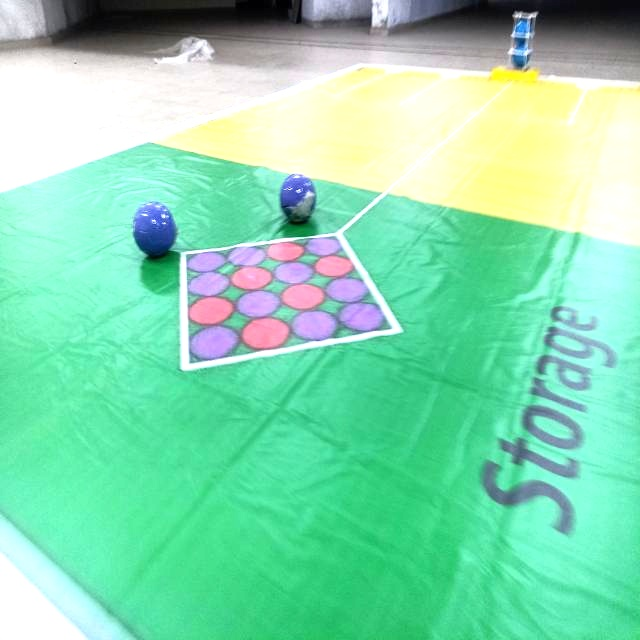blue_ball: (513, 18, 532, 44), (513, 47, 529, 66)
purple_ball: (271, 164, 325, 226), (129, 195, 177, 261)
silo: (508, 6, 538, 69)
